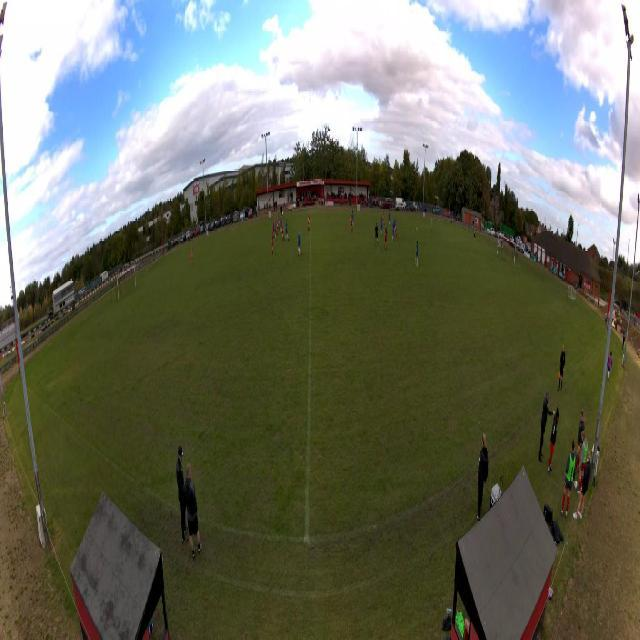ball: (416, 228, 417, 230)
player: (297, 230, 302, 257), (415, 240, 419, 267), (271, 231, 275, 256), (272, 218, 276, 242), (374, 222, 378, 246), (285, 219, 289, 241), (281, 220, 285, 241), (391, 220, 395, 241), (384, 227, 387, 251), (395, 220, 398, 241), (274, 221, 277, 241), (308, 212, 311, 232), (380, 216, 383, 236), (350, 215, 353, 234), (276, 217, 279, 235), (382, 210, 385, 227), (388, 210, 391, 227), (191, 247, 193, 266), (280, 216, 282, 234), (352, 210, 354, 228), (278, 215, 280, 232), (394, 216, 396, 233), (431, 216, 433, 233)
